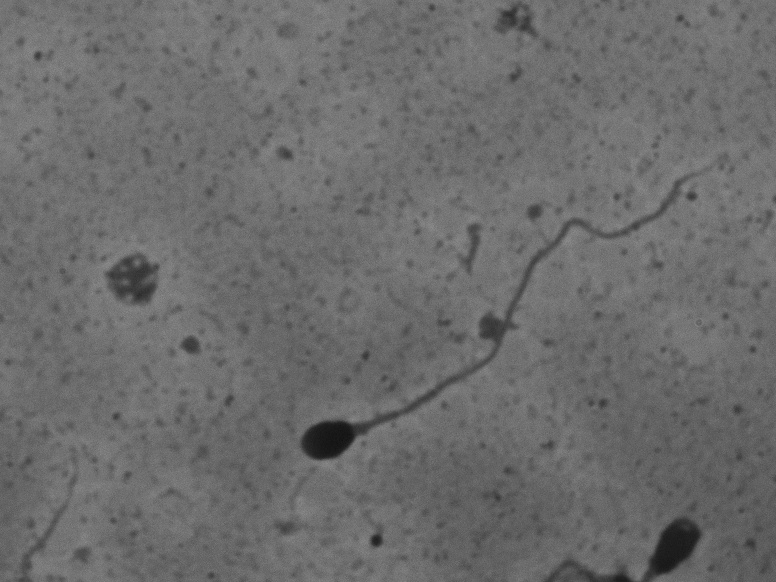Normal: (228, 154, 739, 486)
